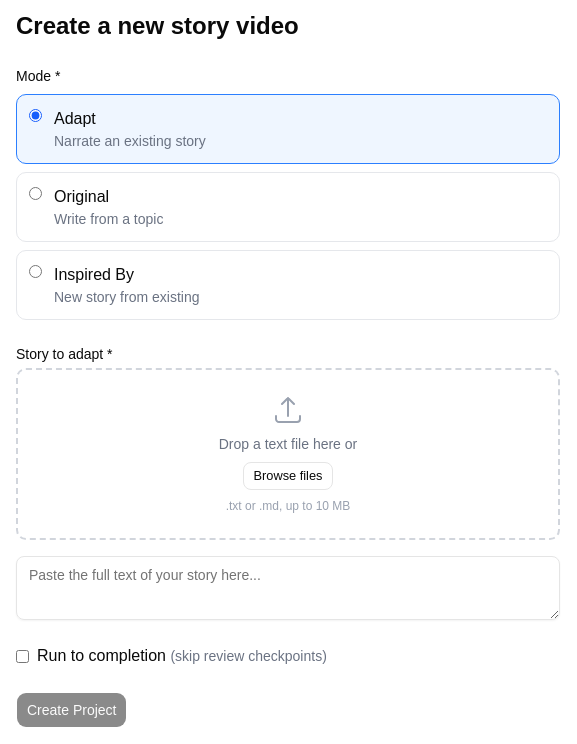
Test: UnifiedProjectPage - Creation mode › does not show file drop zone in original mode
The width and height of the screenshot is (577, 744).
Expected: the radio button labelled "Adapt Narrate an existing story" is shown, [29,109,42,122]
Click the radio button labelled "Original Write from a topic": (36, 194) [29,187,42,200]
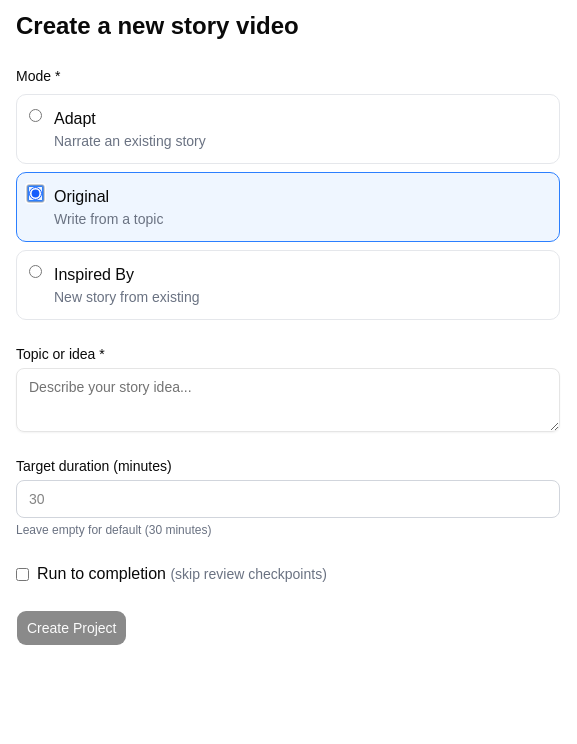
Now the text "Drop a text file here" is gone
